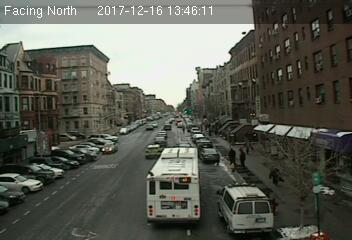bus: (145, 146, 204, 225)
car: (201, 147, 219, 161), (146, 143, 162, 157), (102, 142, 116, 153), (154, 136, 167, 145)
police: (214, 180, 277, 235)
